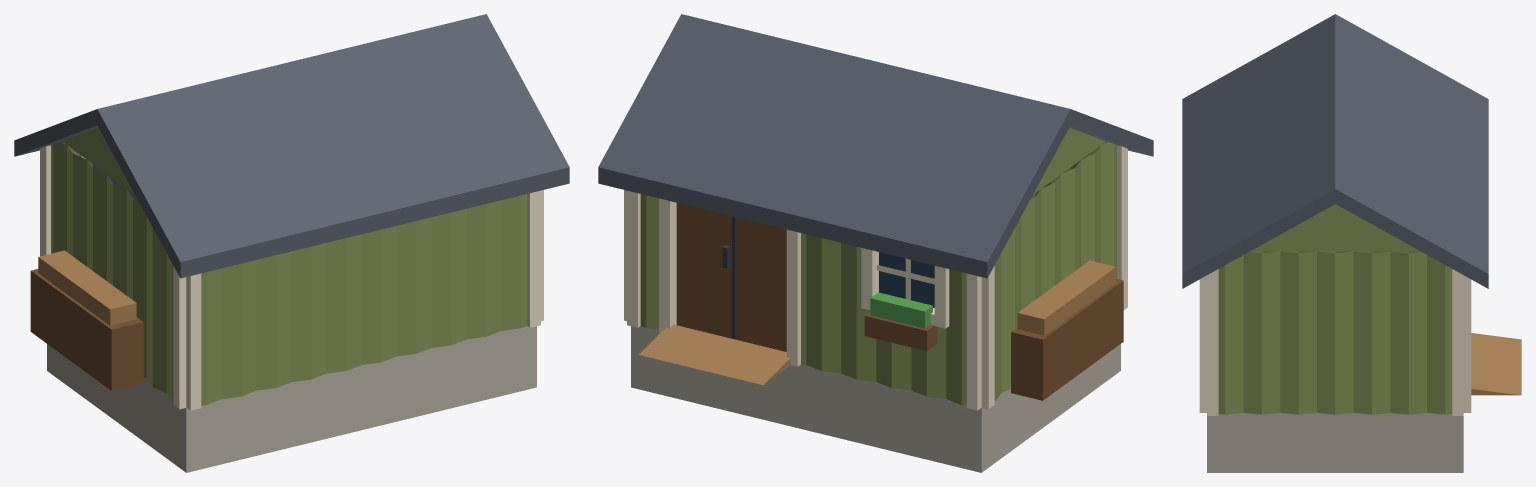
Rendered from shed_a.glb.
3 views of the same model, side by side, from view 1: azimuth 30°, elevation 25°; view 2: azimuth 150°, elevation 25°; view 3: azimuth 270°, elevation 25° (orthographic). The views are drawn at different scales.
Parts seen in each view (by area): view 1: Building; view 2: Building, Building_Detail, Building_Glass; view 3: Building.
Part boxes in pixels (x1,y1,x2,y2): Building: (14, 14, 569, 472); Building: (598, 14, 1153, 472); Building_Detail: (722, 245, 937, 351); Building_Glass: (879, 252, 934, 307); Building: (1182, 14, 1521, 472).
Size of the model in its own units: 5.25 by 3.9 by 4.1.
